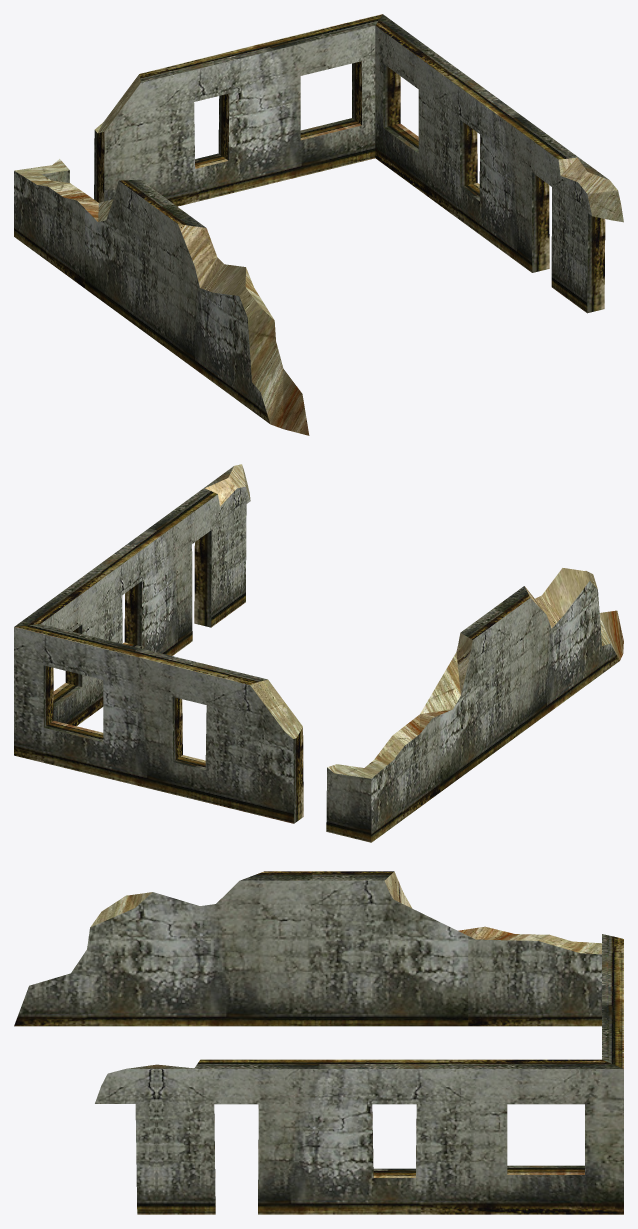
File: wall3.dae
3 views of the same model, one above another, from view 1: azimuth 30°, elevation 25°; view 2: azimuth 150°, elevation 25°; view 3: azimuth 270°, elevation 25° (orthographic). The views are drawn at different scales.
Parts seen in each view (by area): view 1: wall3-col; view 2: wall3-col; view 3: wall3-col.
Part boxes in pixels (<box>): wall3-col: <box>14,14,623,435</box>; wall3-col: <box>14,464,623,842</box>; wall3-col: <box>14,871,623,1214</box>.
Bounding box in the file's own units: 12 × 15.66 × 4.12.
1 material, 1 textured.
